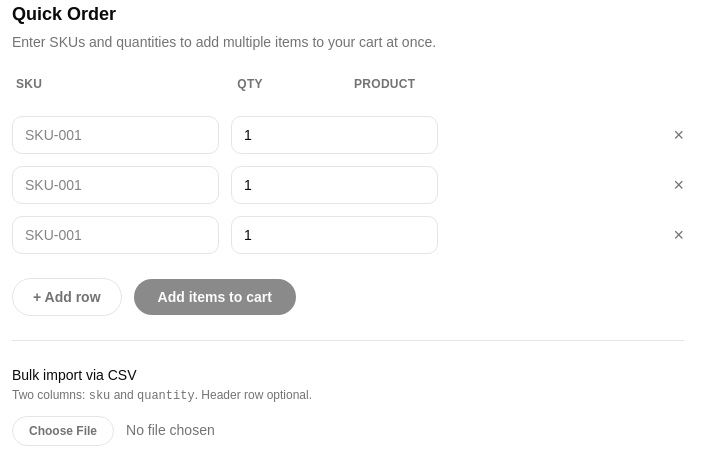
it: QuickOrderPage › removes a row when the × button is clicked
Click the button named "remove row" at x=679, y=135, box [674, 126, 684, 144]
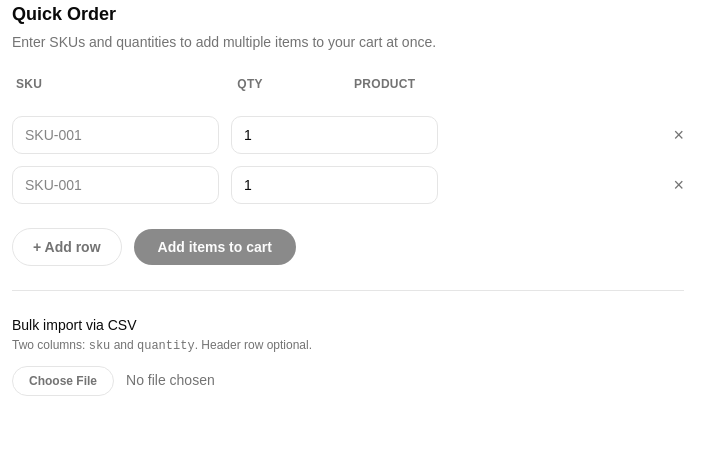
Check: the number of fields with placeholder "SKU-001" is 2, box [12, 116, 219, 154]; [12, 166, 219, 204]
